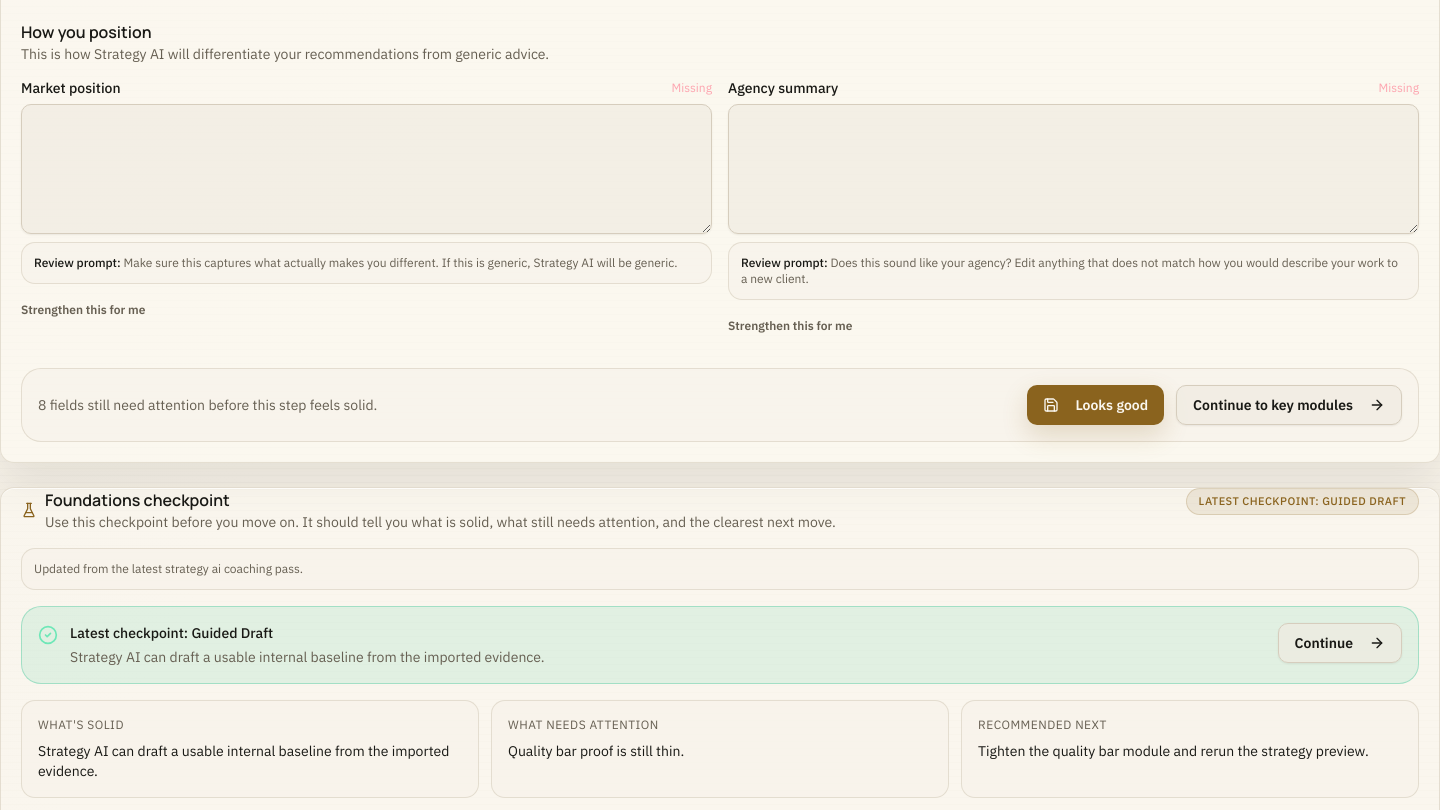
Test: Agency AI Setup V2 routes › shows a quick strategy coaching preview after foundations save
The image size is (1440, 810).
(page scrolled)
Click the button "Looks good" at point(1096, 405), box [1028, 385, 1164, 425]
(page scrolled)
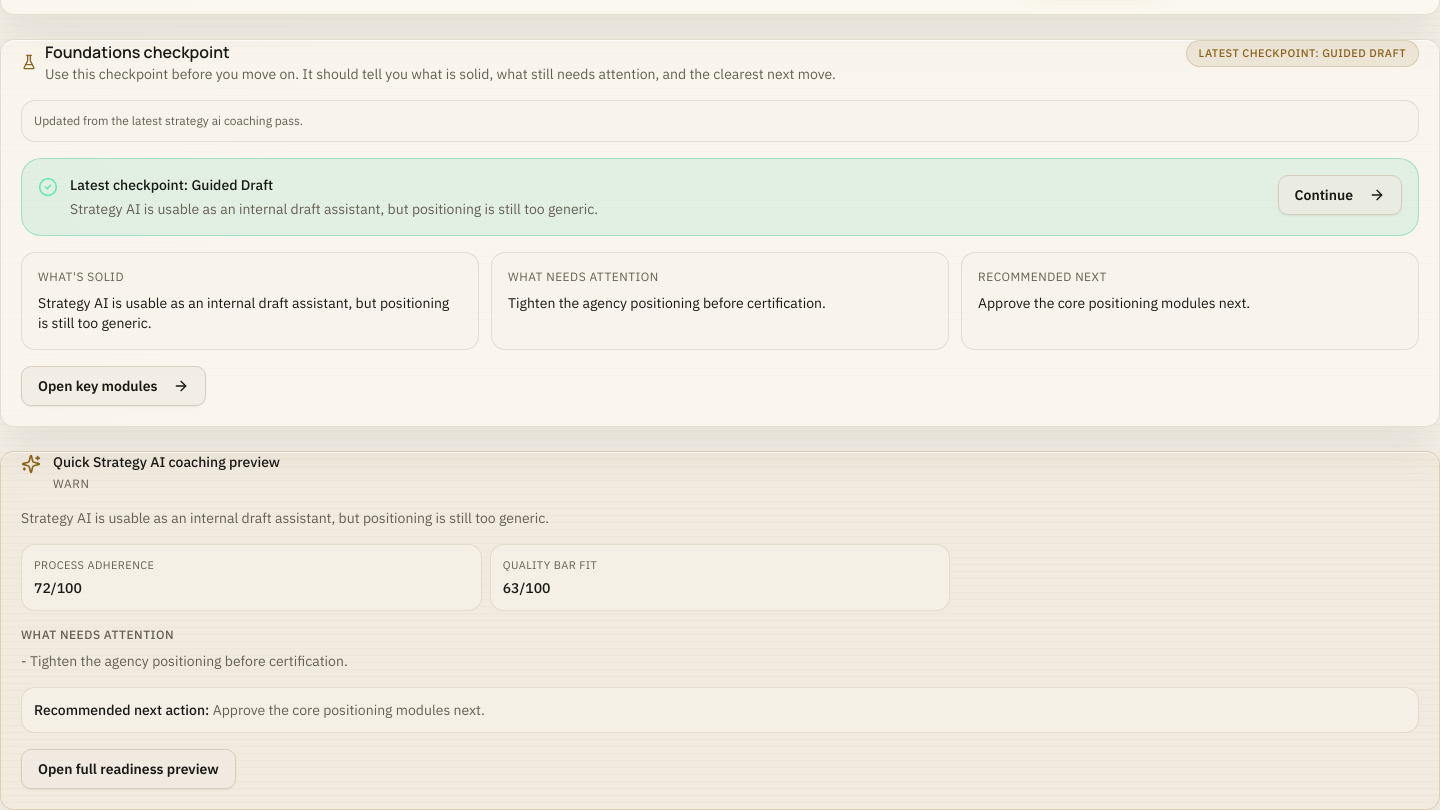
Expected: the text "Quick Strategy AI coaching preview" is shown, [53, 452, 280, 472]
Expected: the 1st text "usable as an internal draft assistant" is shown, [70, 200, 598, 218]
Expected: the text "Approve the core positioning modules next." is shown, [978, 294, 1250, 312]
